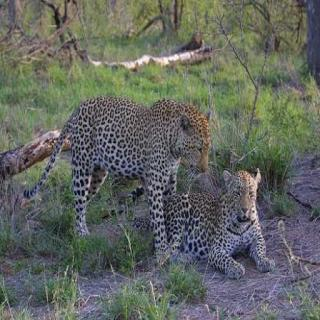Leopard: (22, 73, 214, 279), (127, 156, 276, 280)
